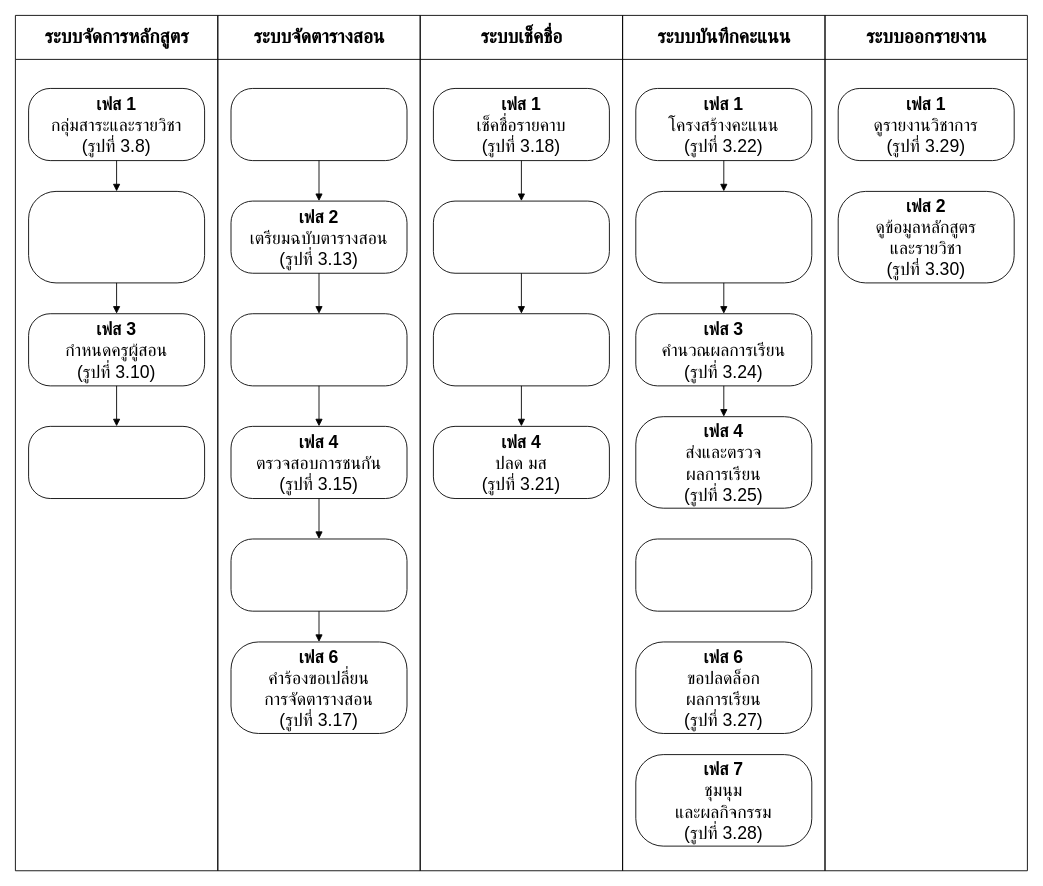
This 1043x886 diagram has some shape labels left out. The centre of each missing label's shape, as x and y in pixels:
เฟส 1 เวลาไม่ว่างของครู (รูปที่ 3.12): the point at 318,124
เฟส 2 บันทึกคะแนน และคุณลักษณะฯ (รูปที่ 3.23): the point at 723,237
เฟส 2 หลักสูตรและ แผนการเรียน (รูปที่ 3.9): the point at 116,237
เฟส 2 แก้ไขการเช็คชื่อ (รูปที่ 3.19): the point at 521,236
เฟส 3 จัดตารางสอน (รูปที่ 3.14): the point at 318,349
เฟส 3 เวลาเรียนและ มส (รูปที่ 3.20): the point at 521,349
เฟส 4 ประกาศใช้หลักสูตร (รูปที่ 3.11): the point at 116,462
เฟส 5 บันทึกผลสอบซ่อม (รูปที่ 3.26): the point at 723,574
เฟส 5 เผยแพร่ตารางสอน (รูปที่ 3.16): the point at 318,574
